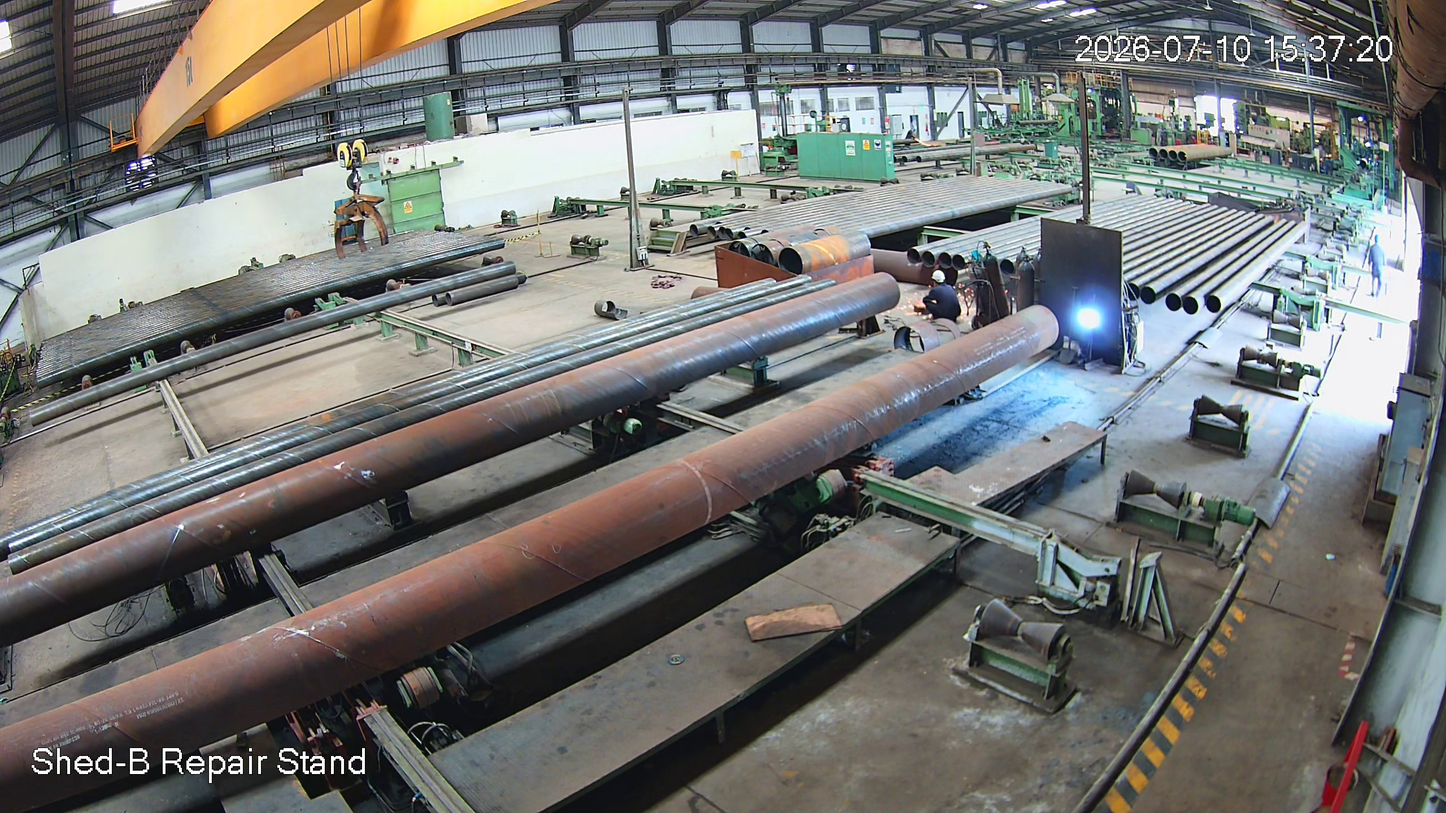Helmet: (929, 264, 964, 304), (1372, 229, 1385, 246)
Person: (918, 267, 964, 332), (1369, 232, 1386, 296)
